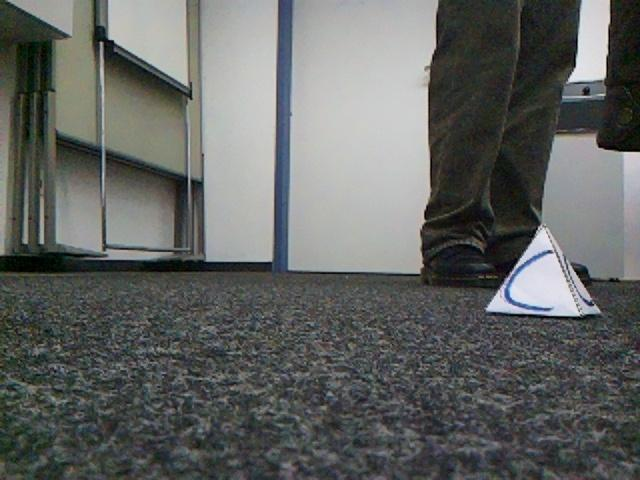C: (486, 225, 598, 317)
